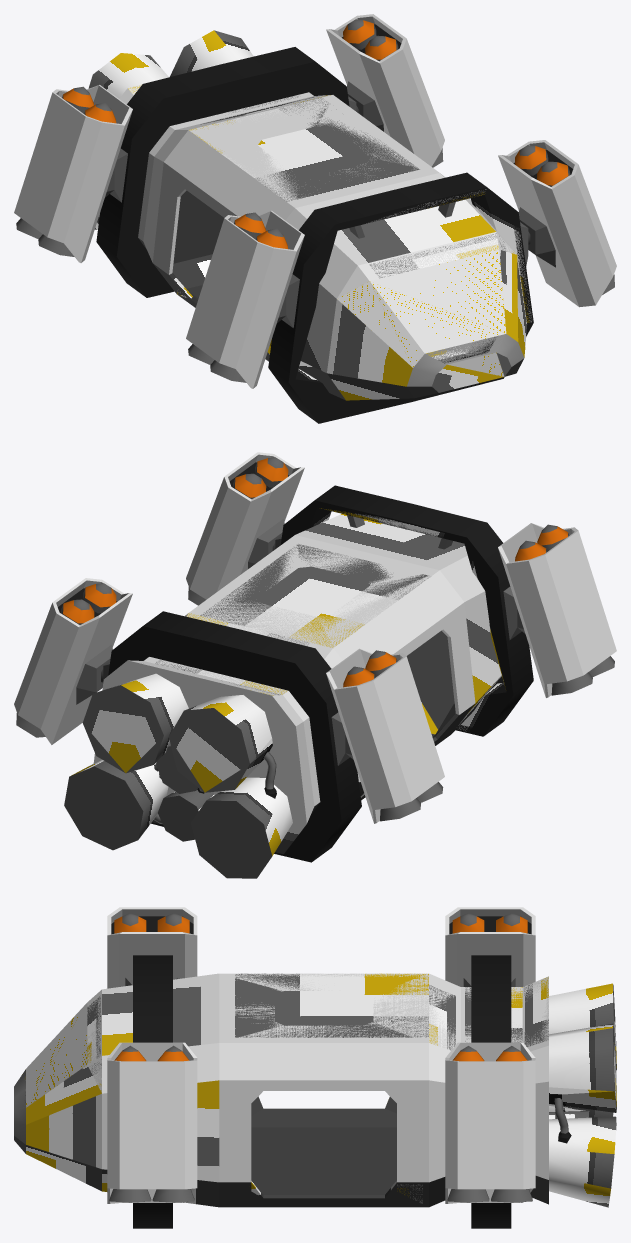
The model's file is vtol_shuttle_v3.fbx.
3 views of the same model, one above another, from view 1: azimuth 30°, elevation 25°; view 2: azimuth 150°, elevation 25°; view 3: azimuth 270°, elevation 25° (orthographic).
Parts seen in each view (by area): view 1: body, pod_frontright, pod_rearright, pod_frontleft, vtolshuttle_hull.047, vtolshuttle_hull.019, pod_rearleft, vtolshuttle_hull.008, vtolshuttle_hull.046, vtolshuttle_hull.051, vtolshuttle_hull.050, vtolshuttle_hull.036 (+12 smaller); view 2: body, pod_rearright, pod_frontright, vtolshuttle_hull.019, pod_rearleft, pod_frontleft, vtolshuttle_hull.008, vtolshuttle_hull.001, vtolshuttle_hull.002, vtolshuttle_hull.004, vtolshuttle_hull.003, vtolshuttle_hull.007 (+11 smaller); view 3: body, pod_rearleft, pod_frontleft, vtolshuttle_hull.019, pod_rearright, pod_frontright, vtolshuttle_hull.004, vtolshuttle_hull.003, vtolshuttle_hull.046, vtolshuttle_hull.047, vtolshuttle_hull.049, vtolshuttle_hull.028 (+11 smaller).
Part boxes in pixels (left/top/right/bottom): body: left=96, top=47, right=533, bottom=423; pod_frontright: left=186, top=210, right=304, bottom=388; pod_rearright: left=14, top=85, right=132, bottom=262; pod_frontleft: left=498, top=140, right=616, bottom=307; vtolshuttle_hull.047: left=359, top=233, right=506, bottom=353; vtolshuttle_hull.019: left=189, top=96, right=439, bottom=207; pod_rearleft: left=326, top=14, right=444, bottom=167; vtolshuttle_hull.008: left=117, top=62, right=348, bottom=297; vtolshuttle_hull.046: left=295, top=173, right=495, bottom=265; vtolshuttle_hull.051: left=327, top=299, right=412, bottom=386; vtolshuttle_hull.050: left=337, top=281, right=424, bottom=367; vtolshuttle_hull.036: left=426, top=334, right=511, bottom=392; body: left=103, top=485, right=533, bottom=862; pod_rearright: left=326, top=648, right=444, bottom=823; pod_frontright: left=498, top=523, right=616, bottom=697; vtolshuttle_hull.019: left=190, top=535, right=438, bottom=647; pod_rearleft: left=14, top=578, right=132, bottom=744; pod_frontleft: left=186, top=452, right=304, bottom=605; vtolshuttle_hull.008: left=108, top=626, right=341, bottom=861; vtolshuttle_hull.001: left=169, top=695, right=272, bottom=792; vtolshuttle_hull.002: left=191, top=777, right=292, bottom=878; vtolshuttle_hull.004: left=83, top=673, right=188, bottom=773; vtolshuttle_hull.003: left=64, top=759, right=168, bottom=850; vtolshuttle_hull.007: left=93, top=660, right=306, bottom=854; body: left=14, top=955, right=571, bottom=1228; pod_rearleft: left=445, top=1042, right=535, bottom=1203; pod_frontleft: left=107, top=1042, right=197, bottom=1203; vtolshuttle_hull.019: left=219, top=973, right=428, bottom=1042; pod_rearright: left=445, top=907, right=535, bottom=986; pod_frontright: left=107, top=907, right=197, bottom=988; vtolshuttle_hull.004: left=549, top=1023, right=616, bottom=1112; vtolshuttle_hull.003: left=549, top=1116, right=616, bottom=1207; vtolshuttle_hull.046: left=102, top=973, right=219, bottom=1055; vtolshuttle_hull.047: left=26, top=991, right=101, bottom=1107; vtolshuttle_hull.049: left=26, top=1094, right=101, bottom=1168; vtolshuttle_hull.028: left=251, top=1108, right=396, bottom=1127.
Size of the model in its own units: 909 by 447 by 1196.
